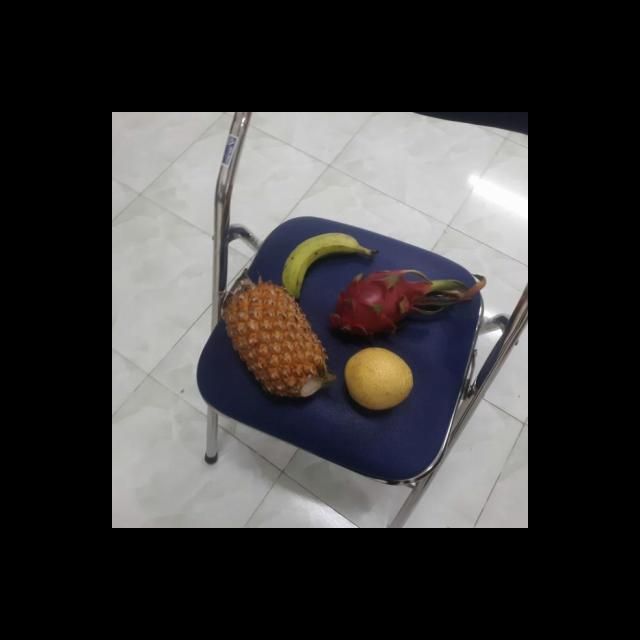banana: (272, 230, 366, 294)
pear: (340, 348, 416, 412)
pineapple: (222, 282, 331, 398)
pitaya: (326, 270, 431, 346)
